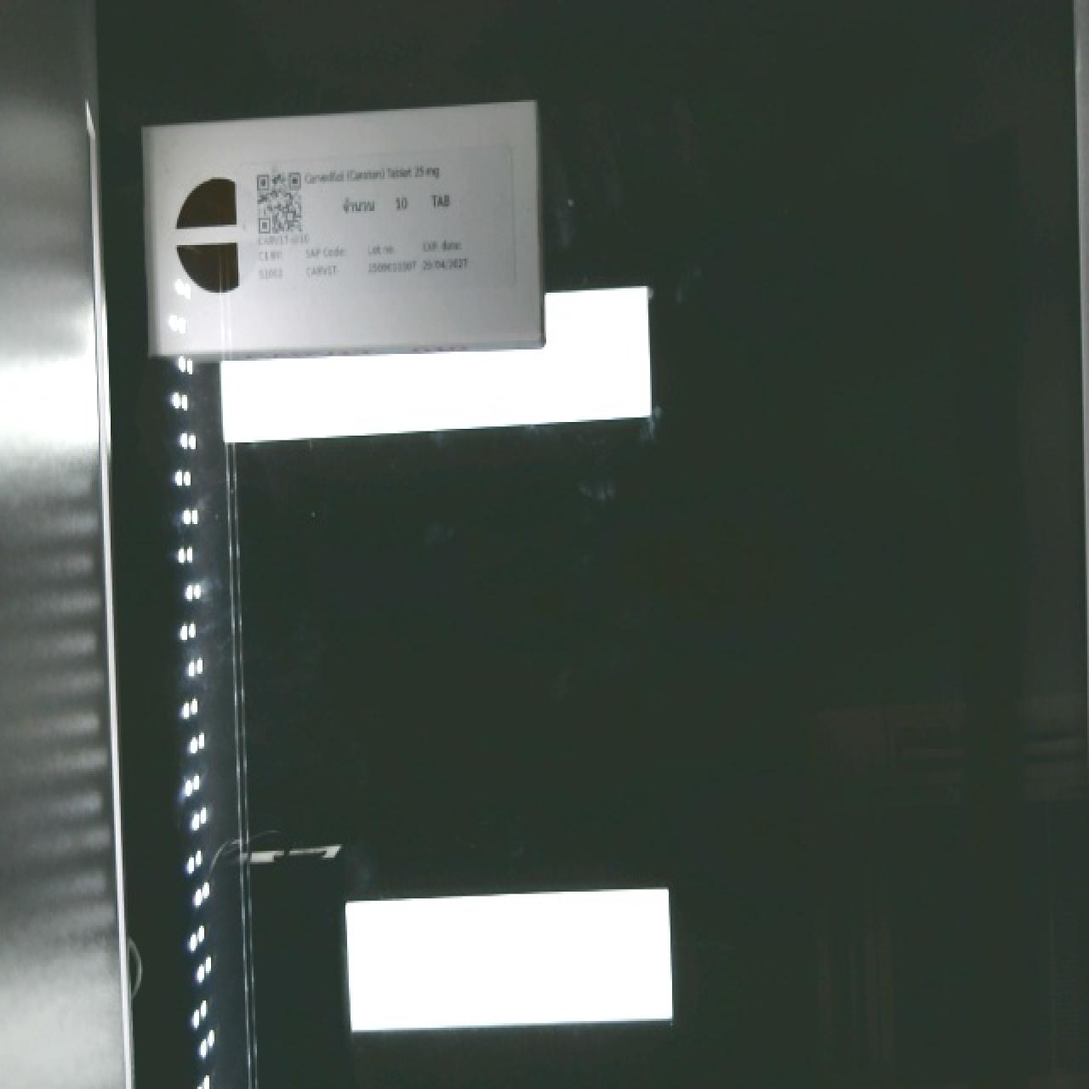qr_code: (243, 166, 312, 241)
